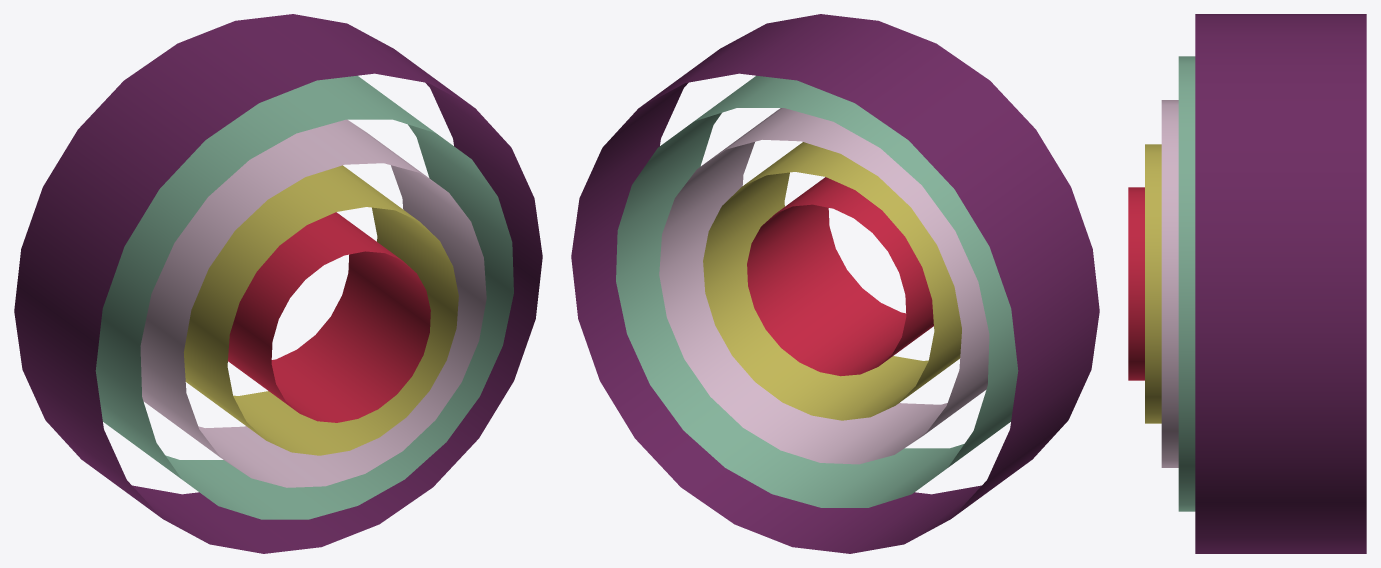
Rendered from FogCircle1.fbx.
3 views of the same model, side by side, from view 1: azimuth 30°, elevation 25°; view 2: azimuth 150°, elevation 25°; view 3: azimuth 270°, elevation 25° (orthographic). The views are drawn at different scales.
Parts seen in each view (by area): view 1: FogCircle; view 2: FogCircle; view 3: FogCircle.
Boxes of the visible parts, x1=… form: FogCircle: x1=14, y1=14, x2=542, y2=553; FogCircle: x1=571, y1=14, x2=1099, y2=553; FogCircle: x1=1128, y1=14, x2=1366, y2=553.
Bounding box in the file's own units: 200 × 200 × 87.93.
